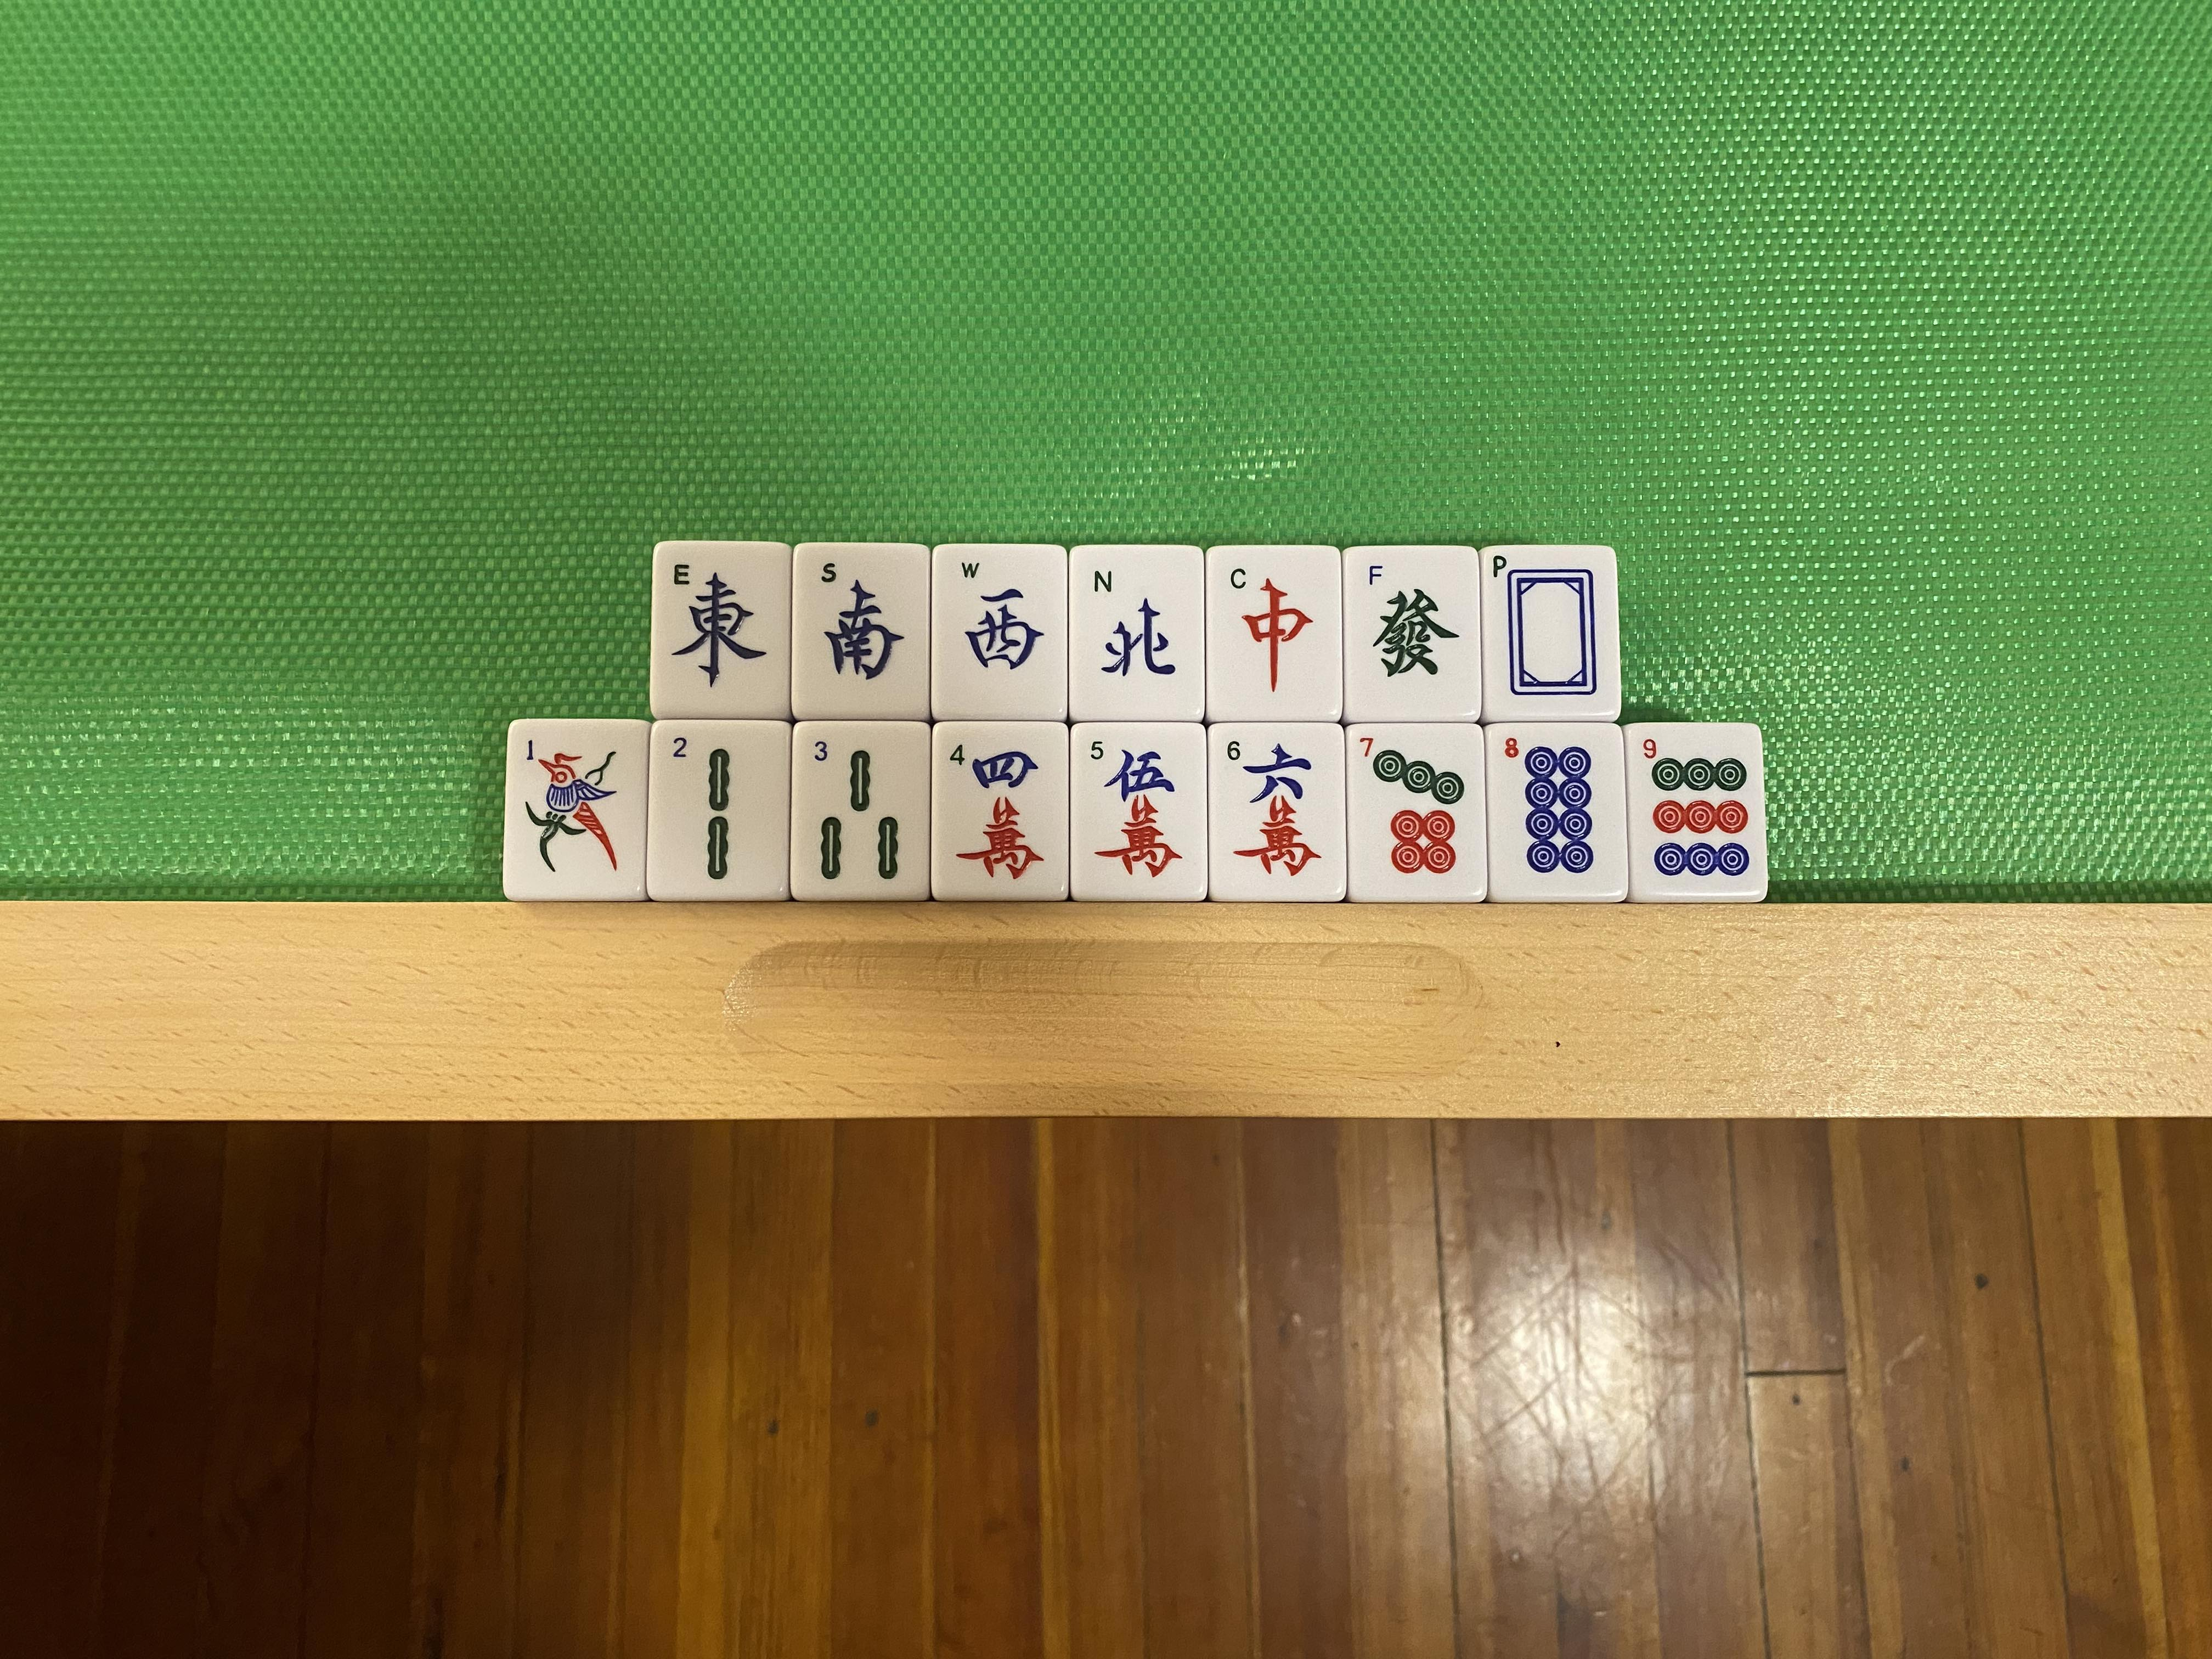bamboo-one: (507, 720, 641, 896)
bamboo-three: (792, 721, 930, 899)
bamboo-two: (646, 721, 789, 896)
circle-eight: (1489, 725, 1623, 901)
circle-five: (1073, 725, 1205, 897)
circle-four: (932, 725, 1068, 901)
circle-nine: (1632, 725, 1761, 899)
circle-seven: (1348, 725, 1484, 901)
circle-six: (1209, 727, 1345, 899)
honor-blue_dragon: (1484, 549, 1615, 720)
honor-east_wind: (655, 544, 787, 716)
honor-green_dragon: (1346, 551, 1477, 721)
honor-north_wind: (1071, 549, 1202, 718)
honor-red_dragon: (1211, 547, 1339, 720)
honor-south_wind: (794, 547, 928, 718)
honor-west_wind: (932, 547, 1066, 716)
